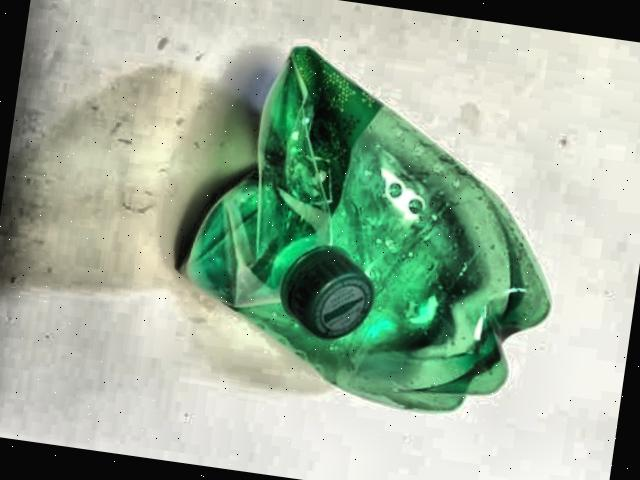Bottles: (129, 13, 583, 442)
